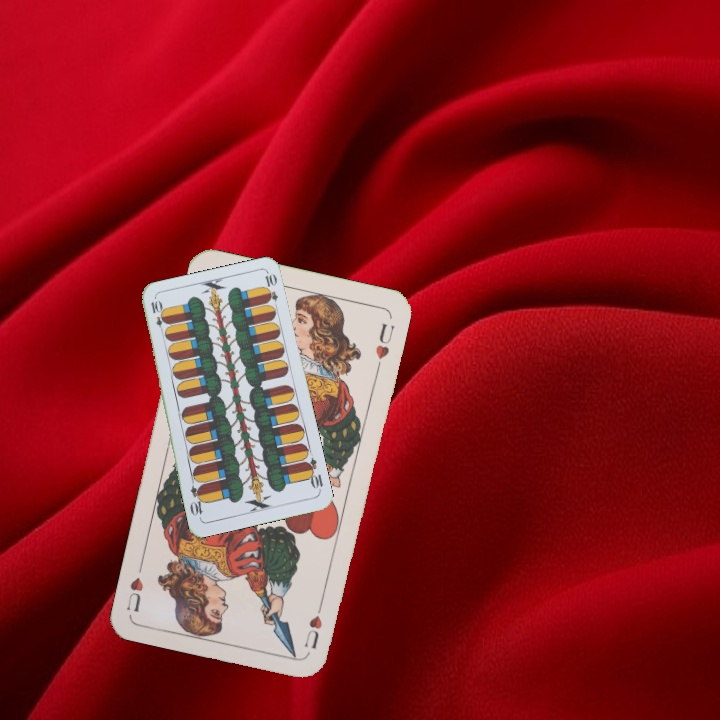E10: (301, 454, 326, 494), (147, 296, 168, 337)
HU: (301, 596, 326, 652)
